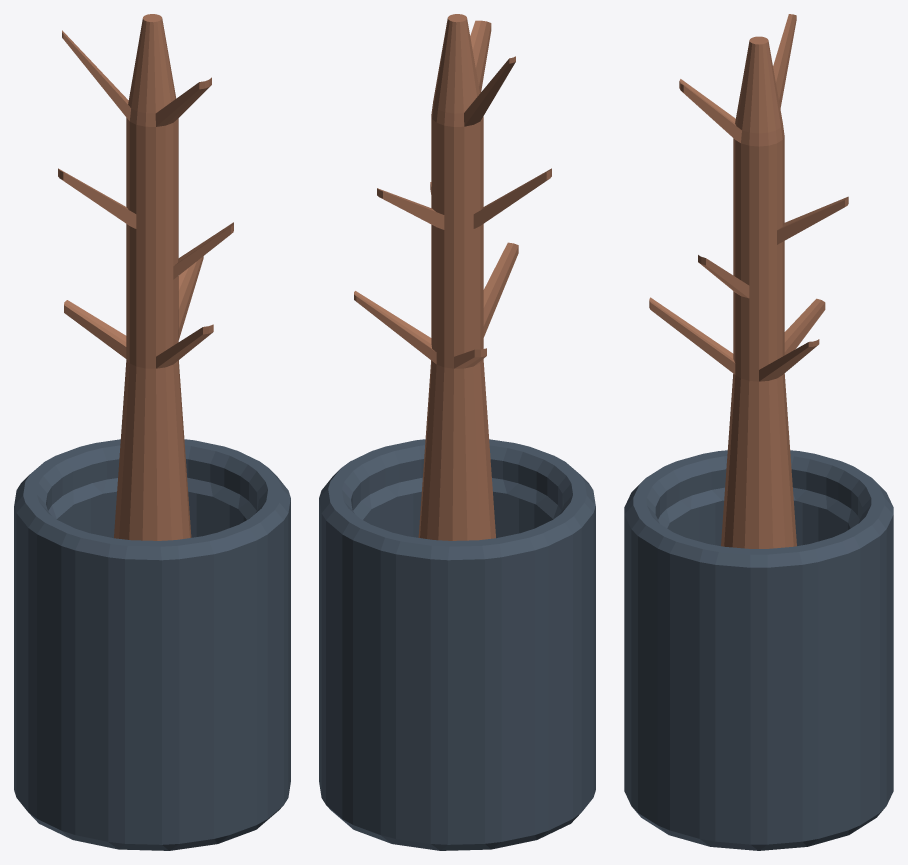
Rendered from tree_pot_diningroom.fbx.
3 views of the same model, side by side, from view 1: azimuth 30°, elevation 25°; view 2: azimuth 150°, elevation 25°; view 3: azimuth 270°, elevation 25° (orthographic). The views are drawn at different scales.
Parts seen in each view (by area): view 1: tree_pot_diningroom, Cube.024; view 2: tree_pot_diningroom, Cube.024; view 3: tree_pot_diningroom, Cube.024.
Boxes of the visible parts, <box> form: tree_pot_diningroom: <box>14,439,290,850</box>; Cube.024: <box>58,14,233,540</box>; tree_pot_diningroom: <box>319,439,595,850</box>; Cube.024: <box>354,14,551,540</box>; tree_pot_diningroom: <box>624,450,893,850</box>; Cube.024: <box>649,14,848,548</box>.
Size of the model in its own units: 36.68 by 114 by 36.68.
